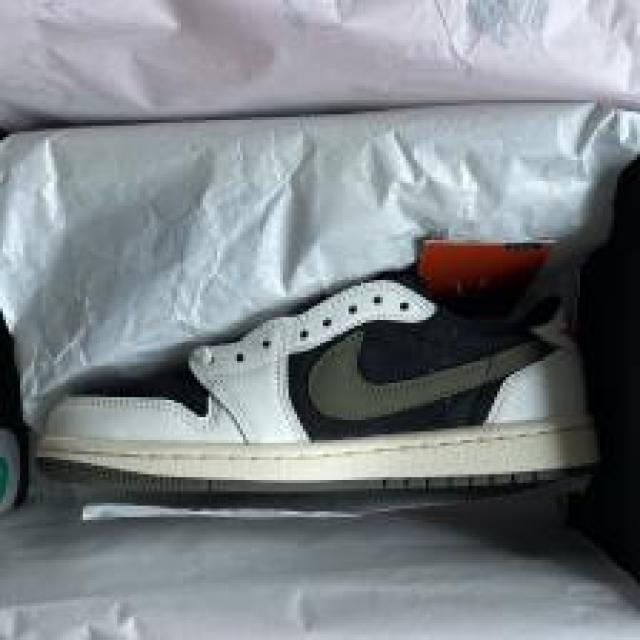shoe: (36, 271, 600, 492)
